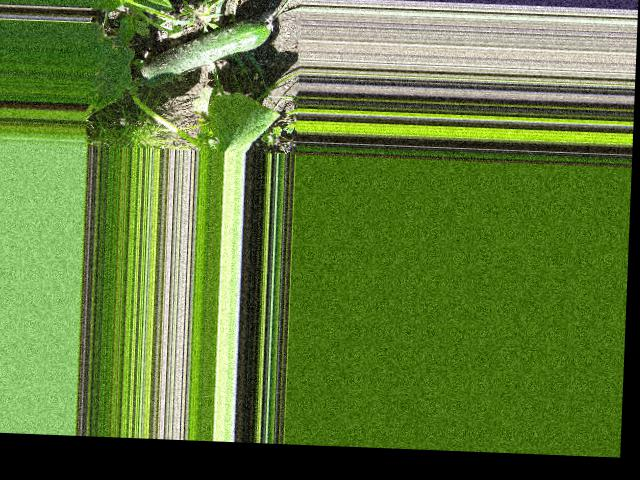cucumber: (137, 14, 272, 92)
